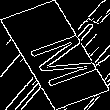M_NE: (12, 24, 98, 86)
